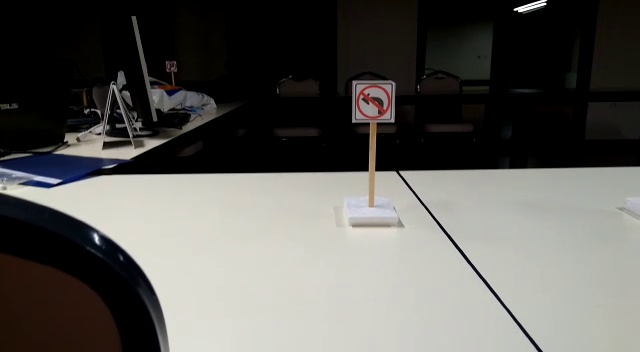sola_donulmez: (352, 77, 398, 123)
